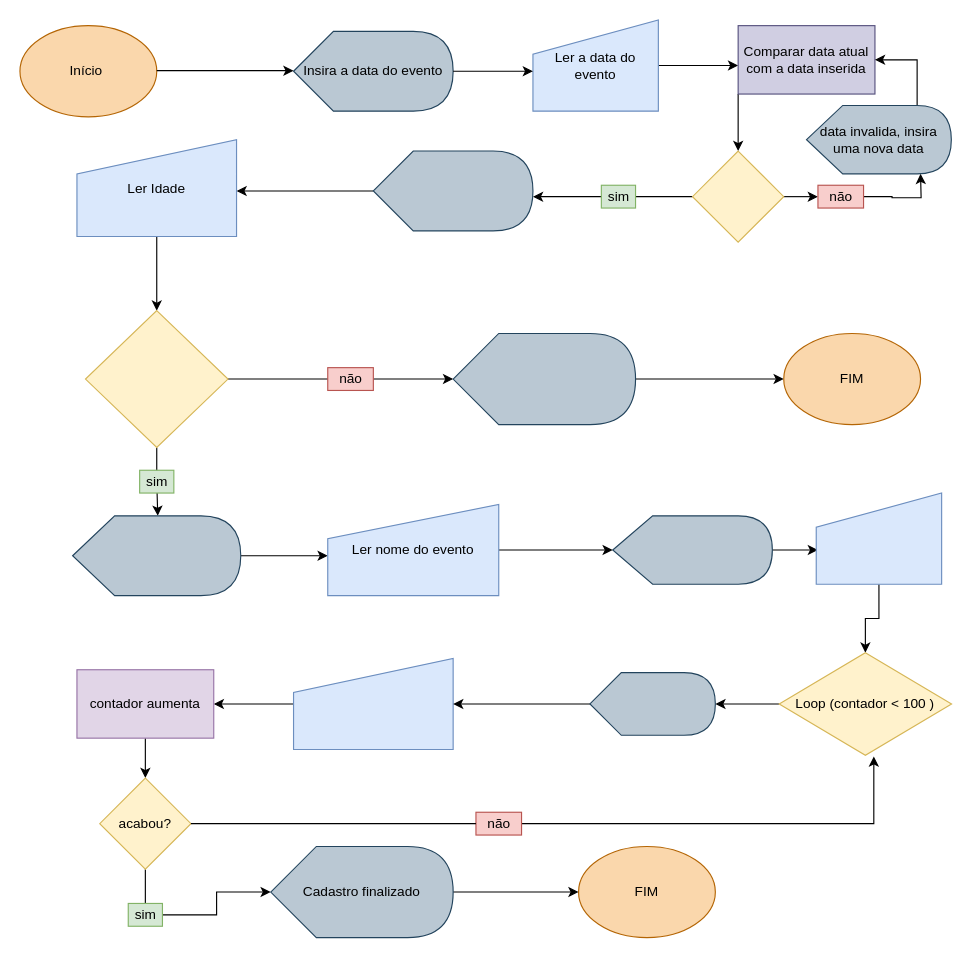
Some shapes in this 972 by 958 pixel diagram are drawn without their labels. The centre of each missing label's shape, as x and y in pixels:
a data é inserida é valida?: pixel 737 196
idade invalida, não é permitido menores de 18 anos: pixel 544 378
Insira a sua Idade: pixel 452 190
Insira o nome: pixel 652 703
Insira o nome do evento: pixel 156 555
Insira o nome do palestrante: pixel 692 549
Ler nome do palestrante: pixel 878 538
recebe nome: pixel 372 703
é maior de idade (maior de 18 anos): pixel 156 378
